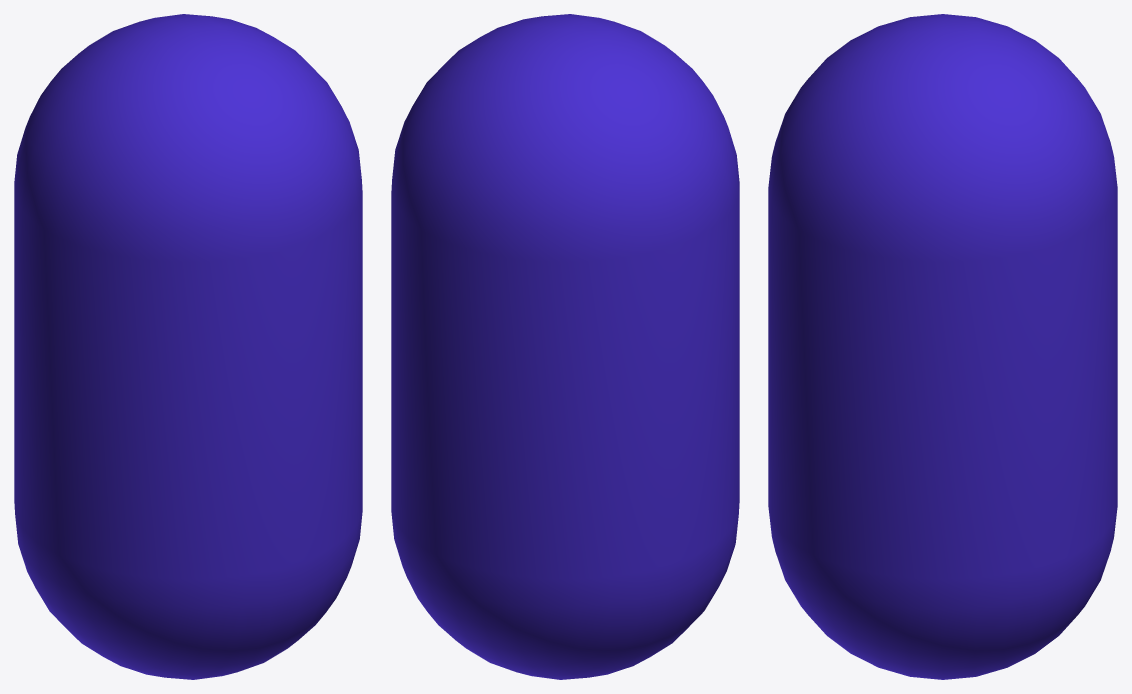
The model's file is BooostItem Variant.fbx.
The picture shows the model from 3 angles, left to right: view 1: azimuth 30°, elevation 25°; view 2: azimuth 150°, elevation 25°; view 3: azimuth 270°, elevation 25°; orthographic projection.
Visible parts, largest first — view 1: BooostItem_Variant; view 2: BooostItem_Variant; view 3: BooostItem_Variant.
Part boxes in pixels (bbox=[...]): BooostItem_Variant: bbox=[14, 14, 362, 679]; BooostItem_Variant: bbox=[391, 14, 739, 679]; BooostItem_Variant: bbox=[768, 14, 1117, 679].
Size of the model in its own units: 100 by 200 by 100.
